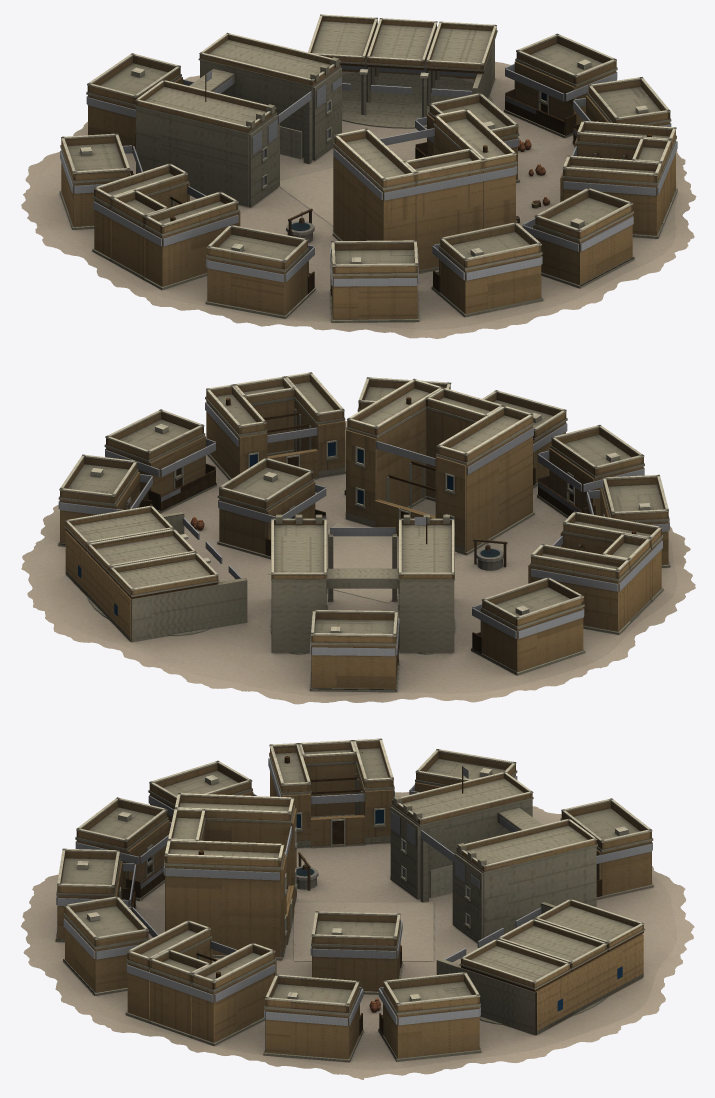
The model's file is bronze-town-medium-a-israelite.glb.
The picture shows the model from 3 angles, top to bottom: view 1: azimuth 30°, elevation 25°; view 2: azimuth 150°, elevation 25°; view 3: azimuth 270°, elevation 25°; orthographic projection.
Parts seen in each view (by area): view 1: LOD0; view 2: LOD0; view 3: LOD0.
Part boxes in pixels (bbox=[...]): LOD0: bbox=[21, 14, 696, 338]; LOD0: bbox=[21, 372, 695, 704]; LOD0: bbox=[21, 738, 694, 1079].
Size of what is drawn, in the model's own units: 5.99 by 1.08 by 5.91.
Materials: 3 (3 with a texture image).
